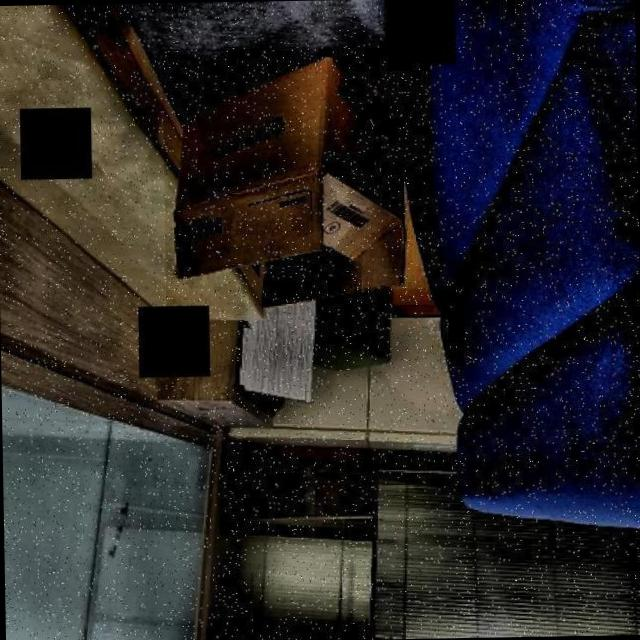box: (161, 44, 434, 317)
